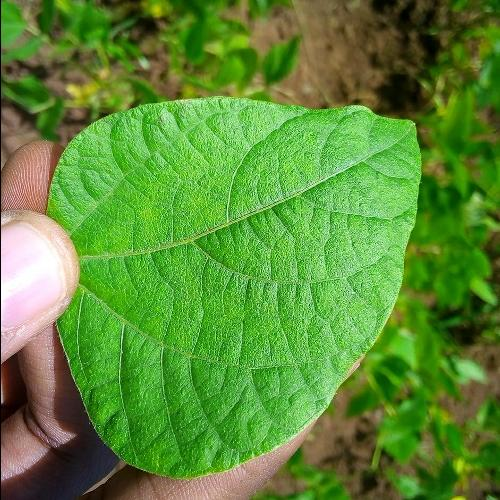sehat: (98, 132, 334, 374)
